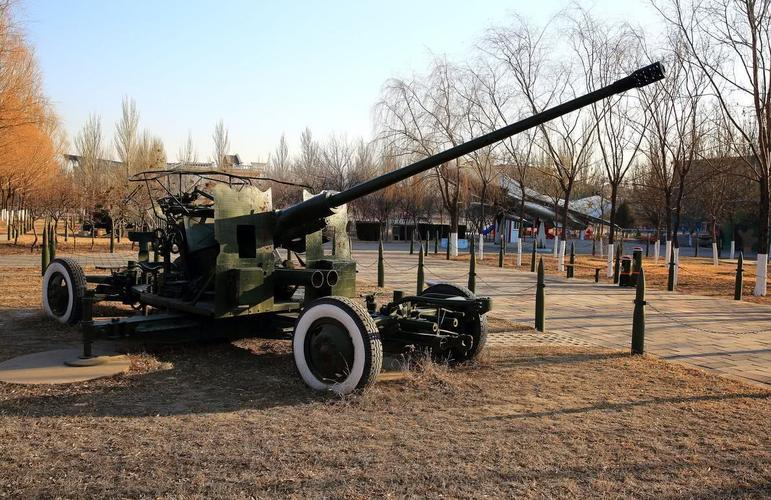MIL_SPG: (42, 63, 664, 394)
